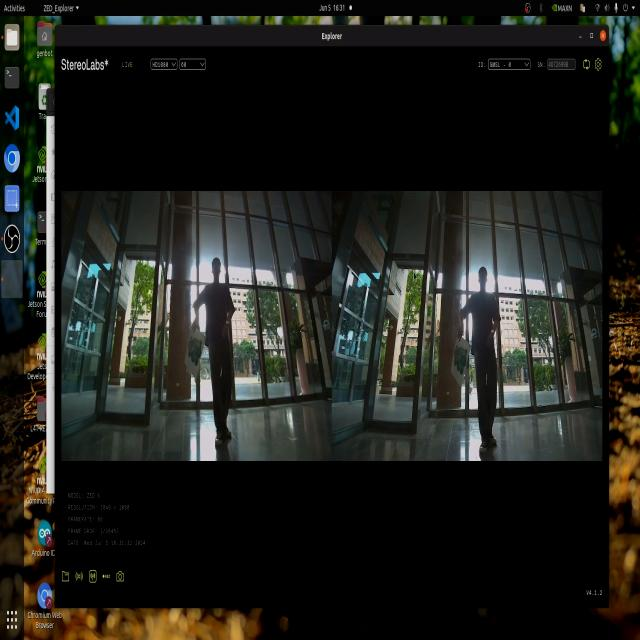green: (179, 321, 213, 377), (442, 345, 479, 385)
